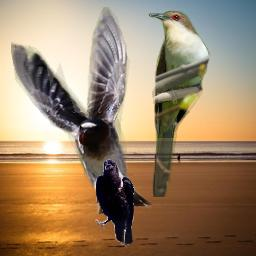Crow: (95, 159, 135, 247)
Cuckoo: (148, 10, 211, 197)
Swallow: (11, 7, 152, 214)
